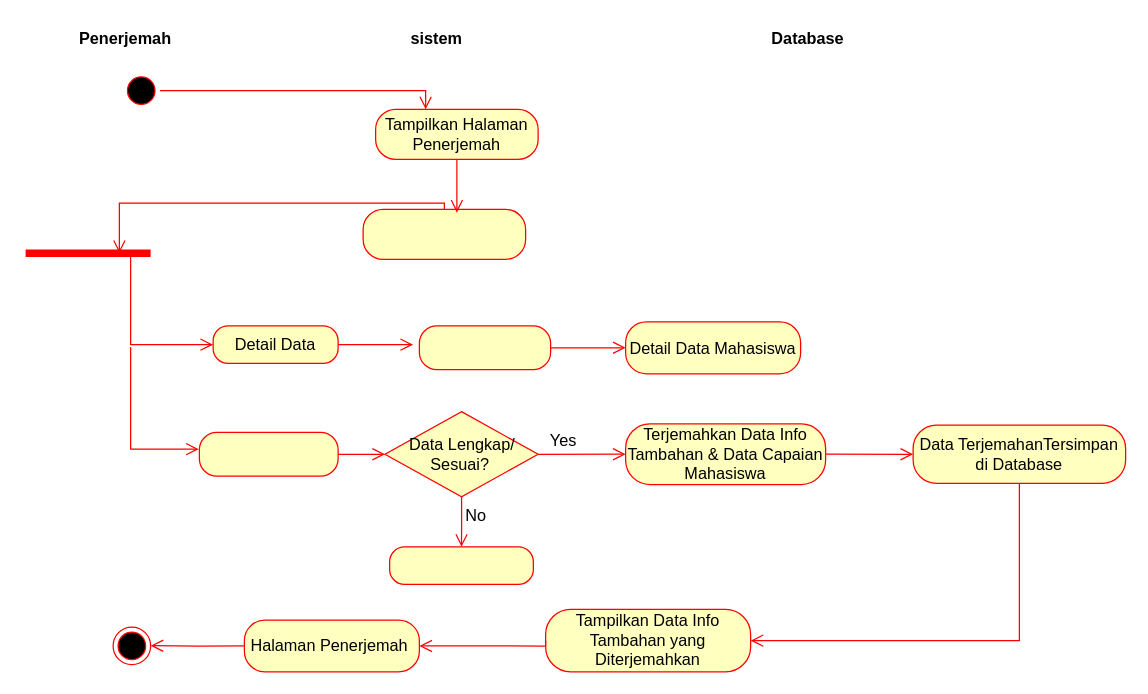
The diagram is 1148 pixels wide and 694 high, and some of its shapes have lost their labels. The shapes that lost their labels are listed below. From the top down, each one's centre as x and y in pixels, then its label:
[444,233]: Menampilkan Data Info Tambahan
[484,347]: Tampilkan Detail Data
[268,453]: Menerjemahkan Data
[460,565]: Tampilkan Halaman Error
